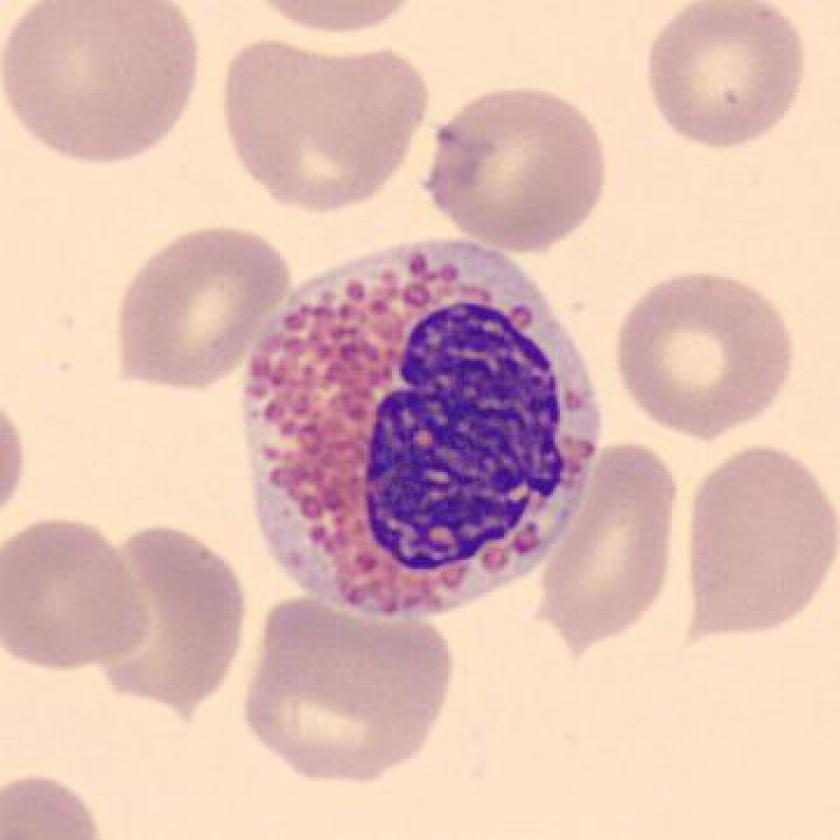eosinophil: (228, 226, 613, 640)
